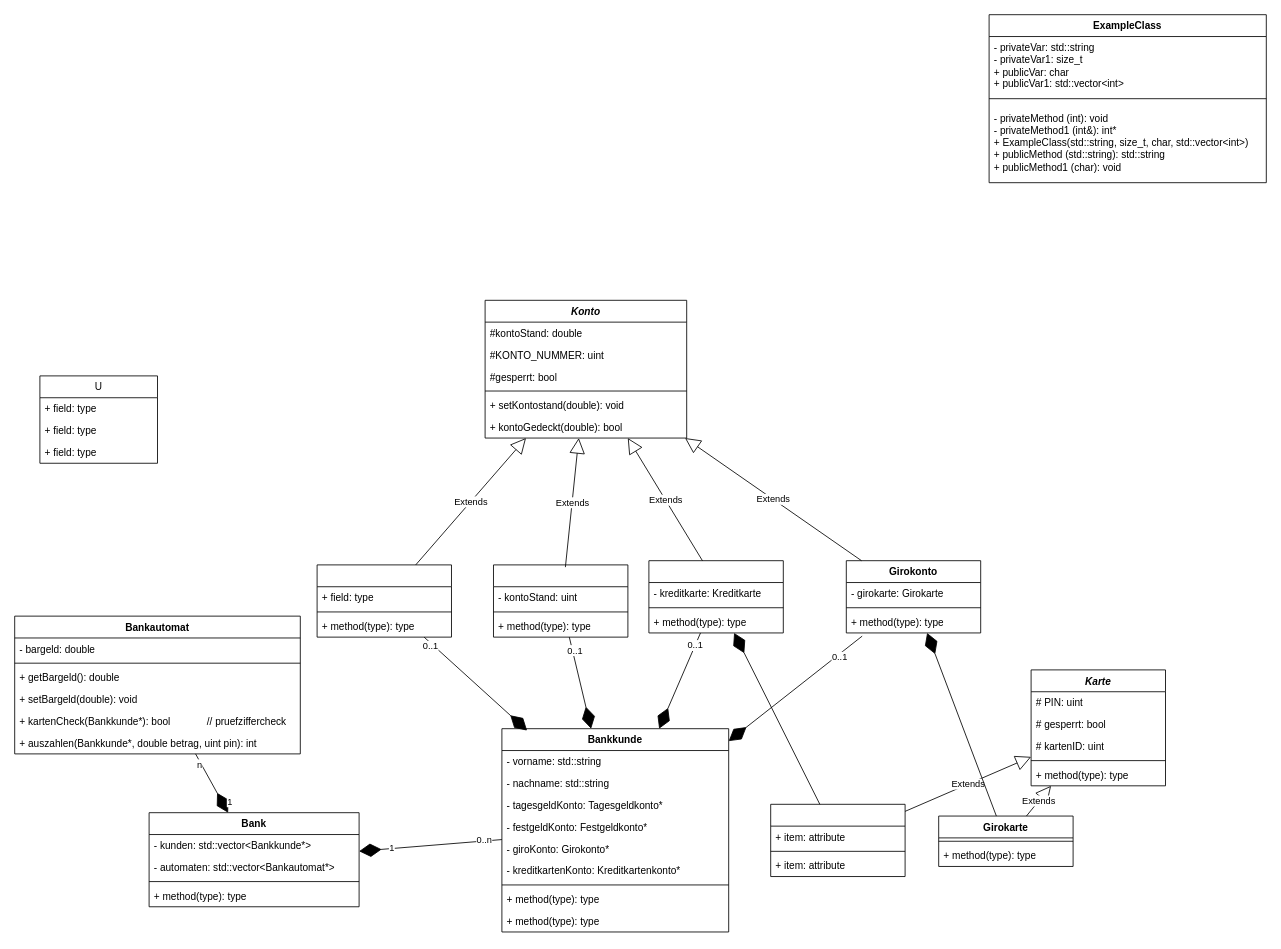
This 1281x949 diagram has some shape labels left out. Each missing label, with the box of its shape:
Festgeldkonto: (493, 564, 628, 637)
Kreditkarte: (770, 803, 905, 877)
Kreditkartenkonto: (648, 560, 783, 633)
Tagesgeldkonto: (316, 564, 452, 637)
